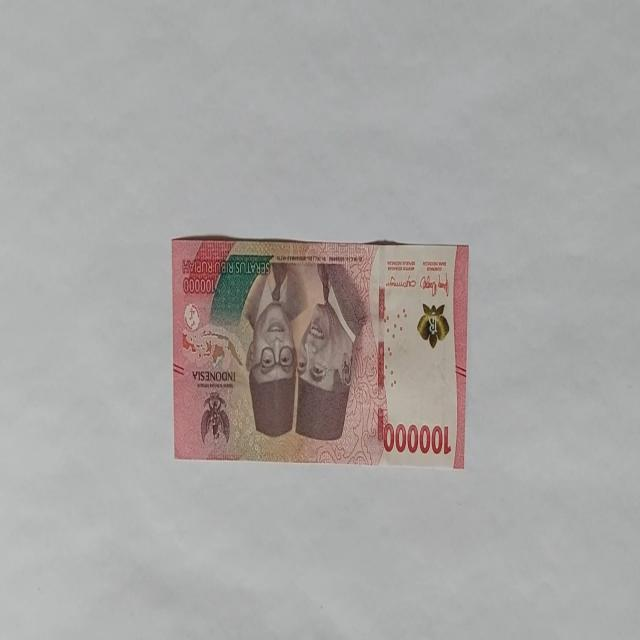seratus ribu rupiah: (170, 234, 470, 468)
